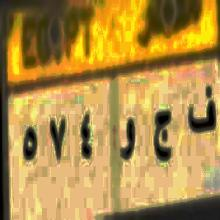4: (78, 105, 94, 164)
5: (21, 118, 39, 170)
7: (47, 110, 69, 165)
faa: (184, 83, 218, 141)
jeem: (150, 102, 174, 165)
waw: (116, 109, 138, 167)
